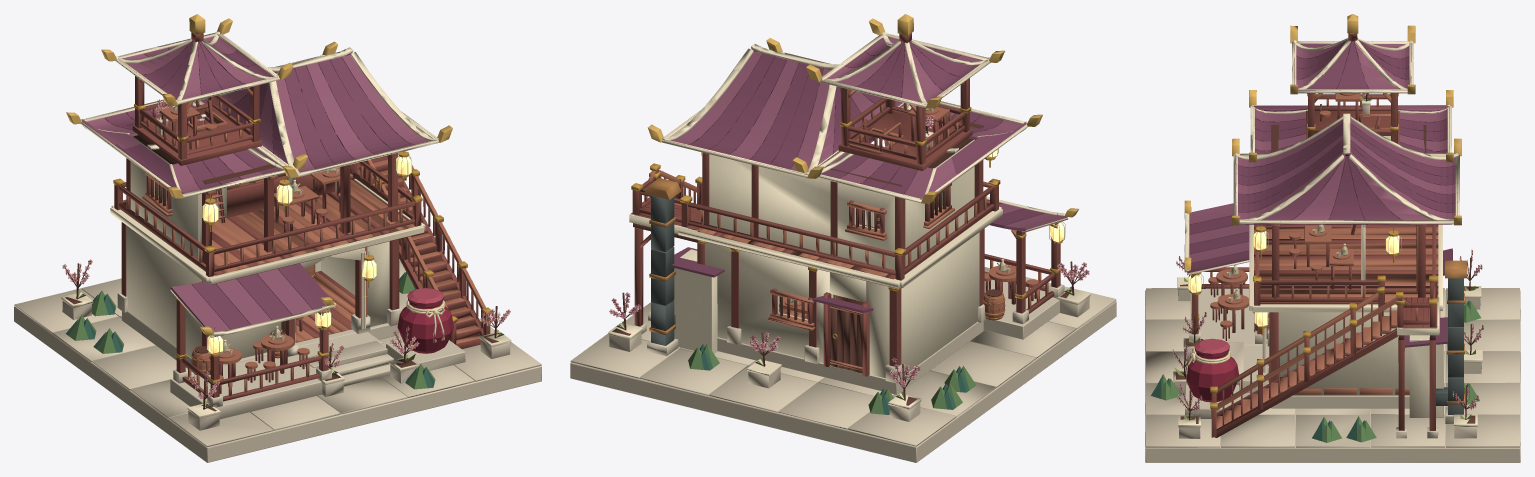
The model's file is tavern-lod1-f7ec1d8ef926.glb.
3 views of the same model, side by side, from view 1: azimuth 30°, elevation 25°; view 2: azimuth 150°, elevation 25°; view 3: azimuth 270°, elevation 25° (orthographic). The views are drawn at different scales.
Visible parts, largest first — view 1: TW17batch_0.001, TW17batch_53.001, TW17batch_73.001, TW17batch_52.001, TW17batch_128.001, TW17batch_36.001, TW17batch_5.001, TW17batch_98.001, TW17batch_40.001, TW17batch_101.001, TW17batch_38.001, TW17batch_109.001 (+5 smaller); view 2: TW17batch_0.001, TW17batch_5.001, TW17batch_53.001, TW17batch_73.001, TW17batch_128.001, TW17batch_36.001, TW17batch_52.001, TW17batch_98.001, TW17batch_135.001, TW17batch_40.001, TW17batch_131.001, TW17batch_38.001 (+5 smaller); view 3: TW17batch_0.001, TW17batch_73.001, TW17batch_53.001, TW17batch_52.001, TW17batch_36.001, TW17batch_128.001, TW17batch_5.001, TW17batch_38.001, TW17batch_135.001, TW17batch_40.001, TW17batch_101.001, TW17batch_98.001 (+8 smaller).
Boxes of the visible parts, x1,y1,x2,y2 form: TW17batch_0.001: (14,123,541,462); TW17batch_53.001: (114,32,490,401); TW17batch_73.001: (105,41,434,333); TW17batch_52.001: (126,80,486,396); TW17batch_128.001: (61,31,511,418); TW17batch_36.001: (82,33,434,335); TW17batch_5.001: (126,118,389,358); TW17batch_98.001: (63,101,508,411); TW17batch_40.001: (64,14,509,397); TW17batch_101.001: (397,298,453,353); TW17batch_38.001: (105,41,413,329); TW17batch_109.001: (202,156,411,353); TW17batch_0.001: (570,138,1116,462); TW17batch_5.001: (673,139,979,378); TW17batch_53.001: (631,33,1060,376); TW17batch_73.001: (671,35,1044,312); TW17batch_128.001: (608,32,1090,409); TW17batch_36.001: (666,35,1067,230); TW17batch_52.001: (640,82,1048,370); TW17batch_98.001: (611,108,1087,405); TW17batch_135.001: (651,195,675,345); TW17batch_40.001: (647,14,1078,217); TW17batch_131.001: (688,344,976,414); TW17batch_38.001: (684,42,1044,225); TW17batch_0.001: (1145,105,1520,462); TW17batch_73.001: (1187,40,1457,347); TW17batch_53.001: (1191,33,1438,437); TW17batch_52.001: (1208,93,1440,428); TW17batch_36.001: (1189,40,1457,262); TW17batch_128.001: (1173,37,1482,427); TW17batch_5.001: (1278,136,1443,417); TW17batch_38.001: (1189,40,1457,263); TW17batch_135.001: (1436,278,1463,414); TW17batch_40.001: (1172,14,1479,406); TW17batch_101.001: (1185,349,1238,402); TW17batch_98.001: (1173,93,1481,423).
Bounding box in the file's own units: 10 × 9.91 × 10.
Materials: 24 (8 with a texture image).
